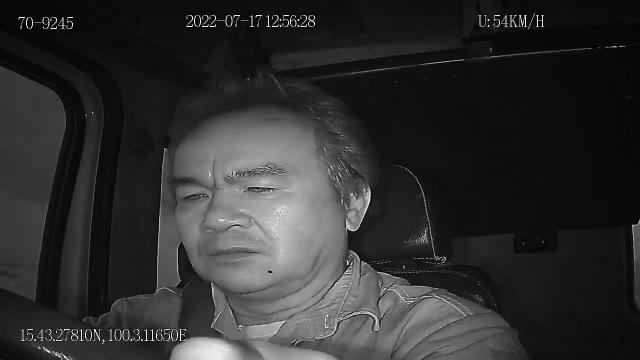SafeDriving: (236, 173, 288, 202), (173, 179, 216, 208)
Seatbelt: (176, 272, 224, 340)
